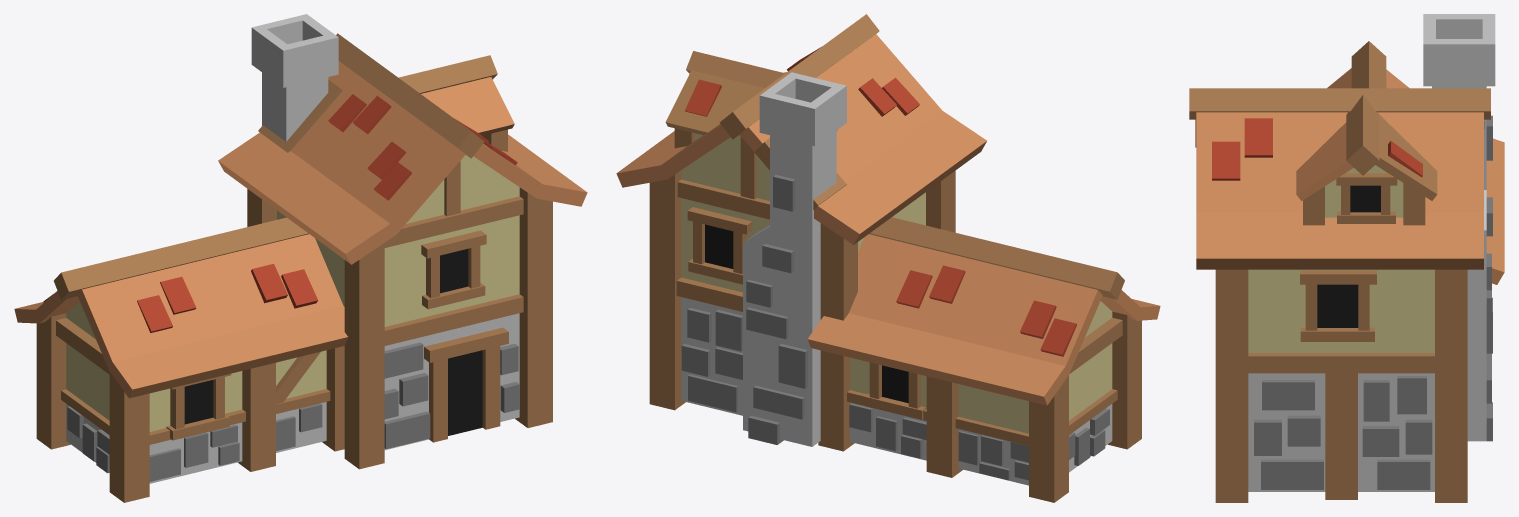
The model's file is PeasantHouseT2lv3.fbx.
The picture shows the model from 3 angles, left to right: view 1: azimuth 30°, elevation 25°; view 2: azimuth 150°, elevation 25°; view 3: azimuth 270°, elevation 25°; orthographic projection. The views are drawn at different scales.
Visible parts, largest first — view 1: Cube.043, Cube, Cube.037, Cube.003, Cube.049, Cube.002, Cube.166, Cube.001, Cube.159, Cube.004, Cube.006, Cube.042 (+36 smaller); view 2: Cube.051, Cube.049, Cube.037, Cube, Cube.007, Cube.162, Cube.166, Cube.004, Cube.001, Cube.008, Cube.159, Cube.042 (+39 smaller); view 3: Cube.042, Cube, Cube.049, Cube.002, Cube.007, Cube.159, Cube.167, Cube.084, Cube.051, Cube.285, Cube.286, Cube.284 (+24 smaller).
Boxes of the visible parts, x1,y1,x2,y2 form: Cube.043: [77, 234, 347, 398]; Cube: [66, 155, 519, 483]; Cube.037: [218, 61, 465, 264]; Cube.003: [344, 243, 384, 469]; Cube.049: [251, 14, 338, 141]; Cube.002: [515, 187, 552, 427]; Cube.166: [54, 217, 308, 299]; Cube.001: [109, 372, 149, 502]; Cube.159: [336, 33, 484, 158]; Cube.004: [36, 313, 70, 449]; Cube.006: [238, 362, 275, 471]; Cube.042: [473, 134, 587, 206]; Cube.051: [807, 234, 1102, 405]; Cube.049: [743, 72, 846, 446]; Cube.037: [739, 34, 986, 244]; Cube: [681, 135, 1112, 485]; Cube.007: [649, 170, 685, 410]; Cube.162: [818, 223, 857, 451]; Cube.166: [869, 217, 1124, 299]; Cube.004: [1029, 375, 1068, 502]; Cube.001: [1108, 311, 1141, 449]; Cube.008: [926, 376, 962, 477]; Cube.159: [719, 14, 879, 139]; Cube.042: [616, 72, 786, 187]; Cube.042: [1196, 112, 1483, 269]; Cube: [1248, 269, 1434, 491]; Cube.049: [1423, 14, 1495, 441]; Cube.002: [1215, 269, 1248, 502]; Cube.007: [1435, 269, 1467, 502]; Cube.159: [1189, 88, 1490, 119]; Cube.167: [1325, 373, 1357, 499]; Cube.084: [1248, 353, 1434, 373]; Cube.051: [1386, 69, 1504, 284]; Cube.285: [1296, 122, 1353, 200]; Cube.286: [1346, 95, 1379, 175]; Cube.284: [1375, 114, 1437, 200].
Size of the model in its own units: 1067 by 787 by 575.
